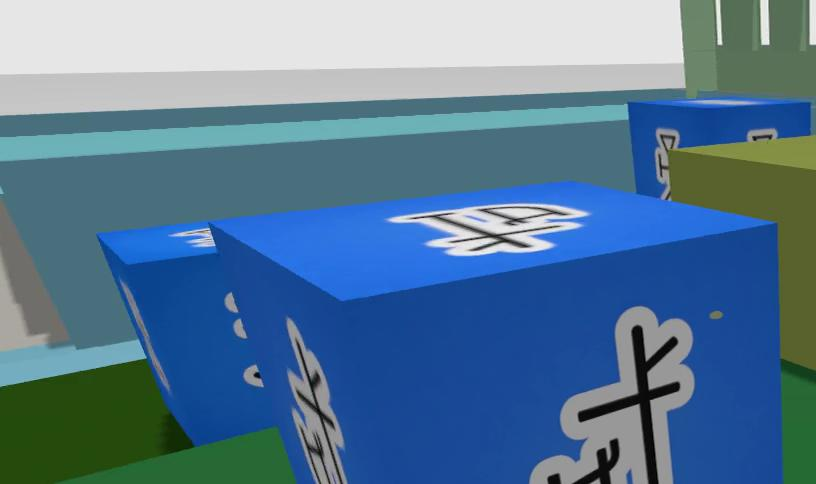KFS_REAL: (214, 181, 783, 484), (98, 222, 270, 444), (530, 307, 694, 484), (628, 98, 811, 198), (386, 203, 589, 256), (286, 318, 347, 484)
